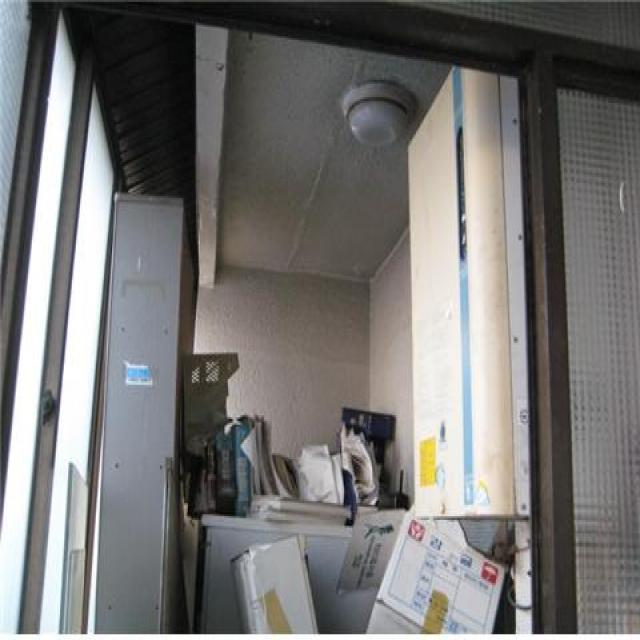Boiler: (376, 74, 540, 554)
